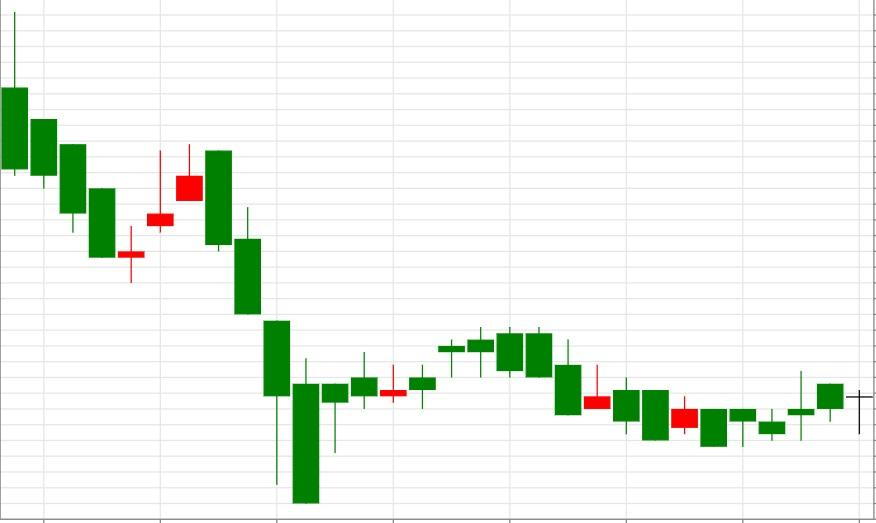three_black_crows_fall: (117, 143, 291, 486)
three_white_soldiers_rise: (0, 11, 204, 284)
